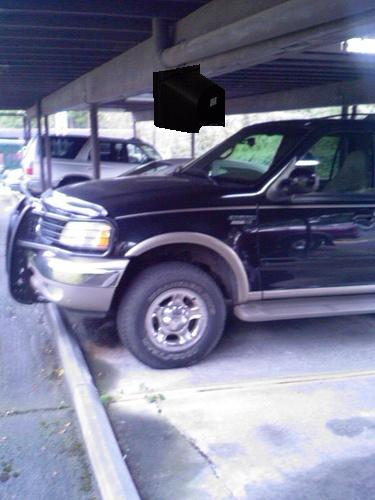tampered: (154, 65, 225, 133)
